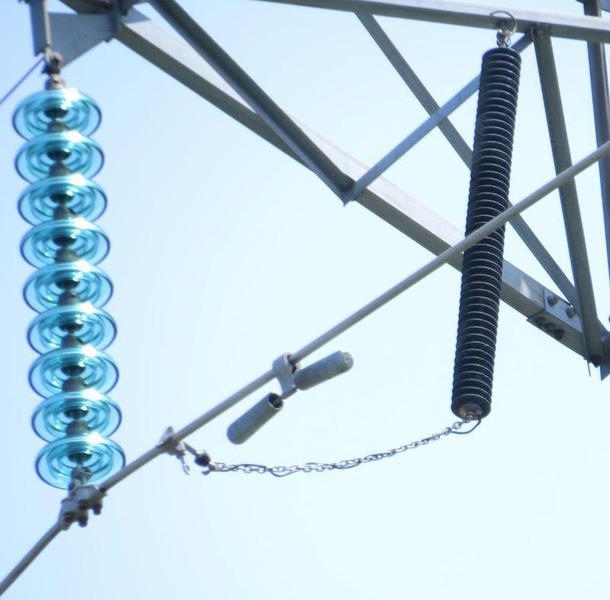isolator: (11, 86, 127, 488)
